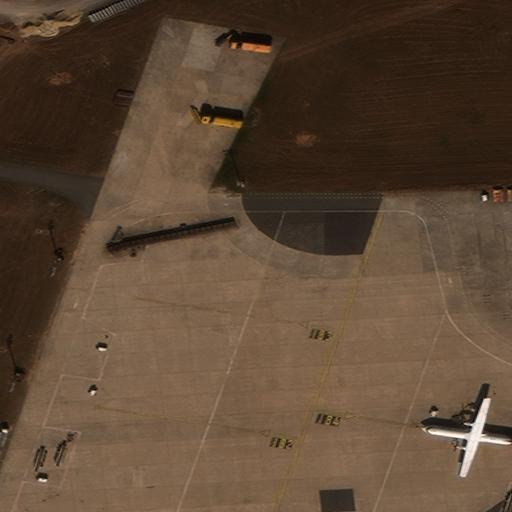Medium Civil Transport: (421, 397, 511, 476)
